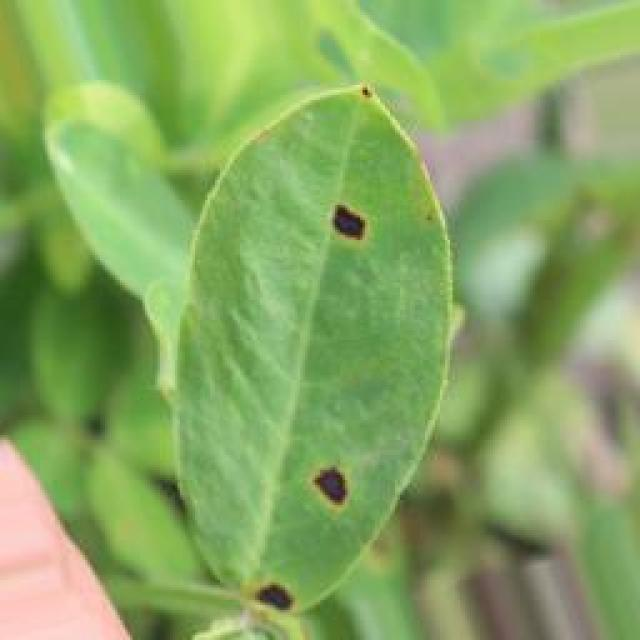Yellowish: (216, 554, 334, 640), (288, 454, 378, 539), (314, 202, 383, 278), (344, 70, 402, 128)
